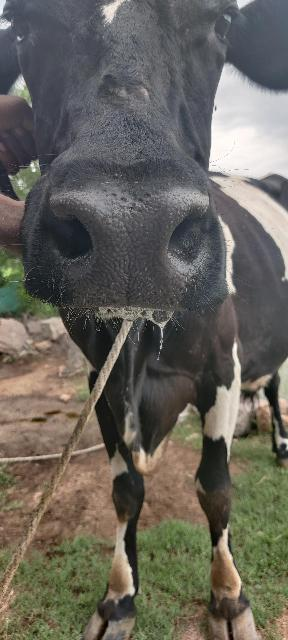Muzzle: (55, 175, 204, 308)
